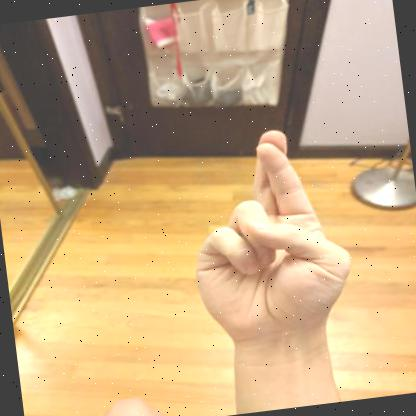R: (195, 130, 351, 353)
